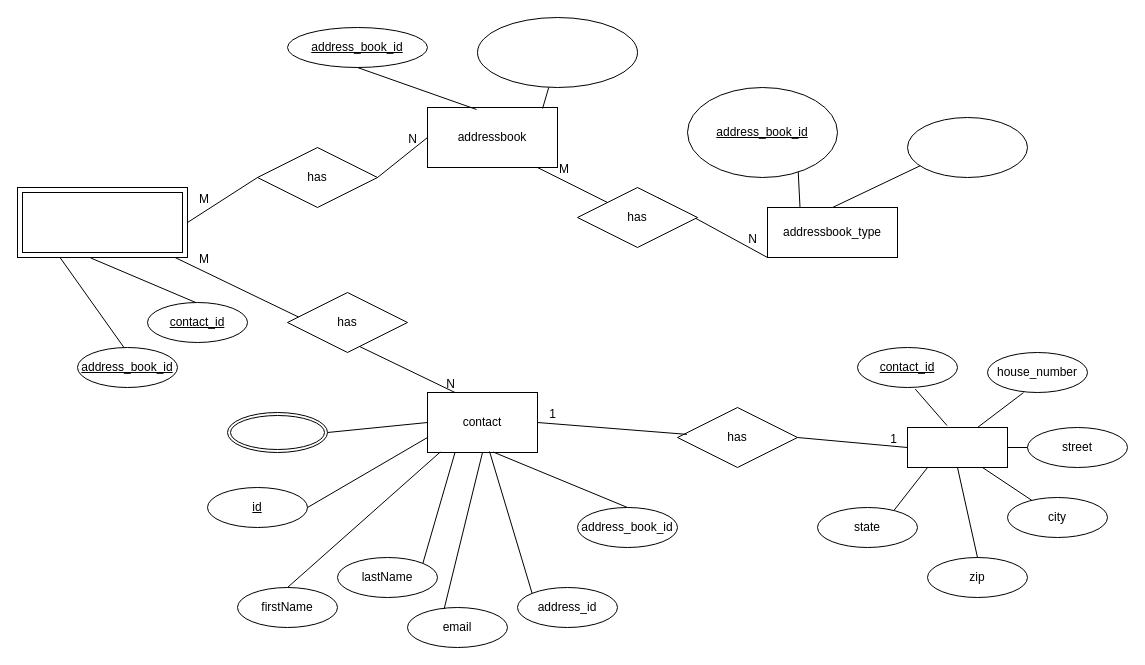
The diagram is 1145 pixels wide and 665 high, and some of its shapes have lost their labels. The box of each missing label's shape, as (x1, y1, x2, y2) in pixels:
address: (906, 426, 1008, 468)
address_book_contact: (16, 186, 188, 258)
address_book_name: (476, 16, 638, 88)
address_book_type: (906, 116, 1028, 178)
phone number: (226, 412, 328, 452)
